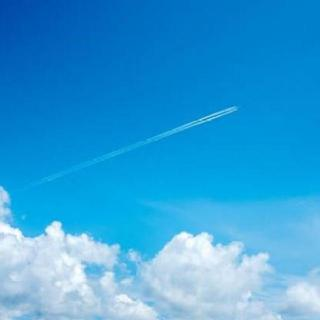Contrails: (25, 107, 243, 191)
